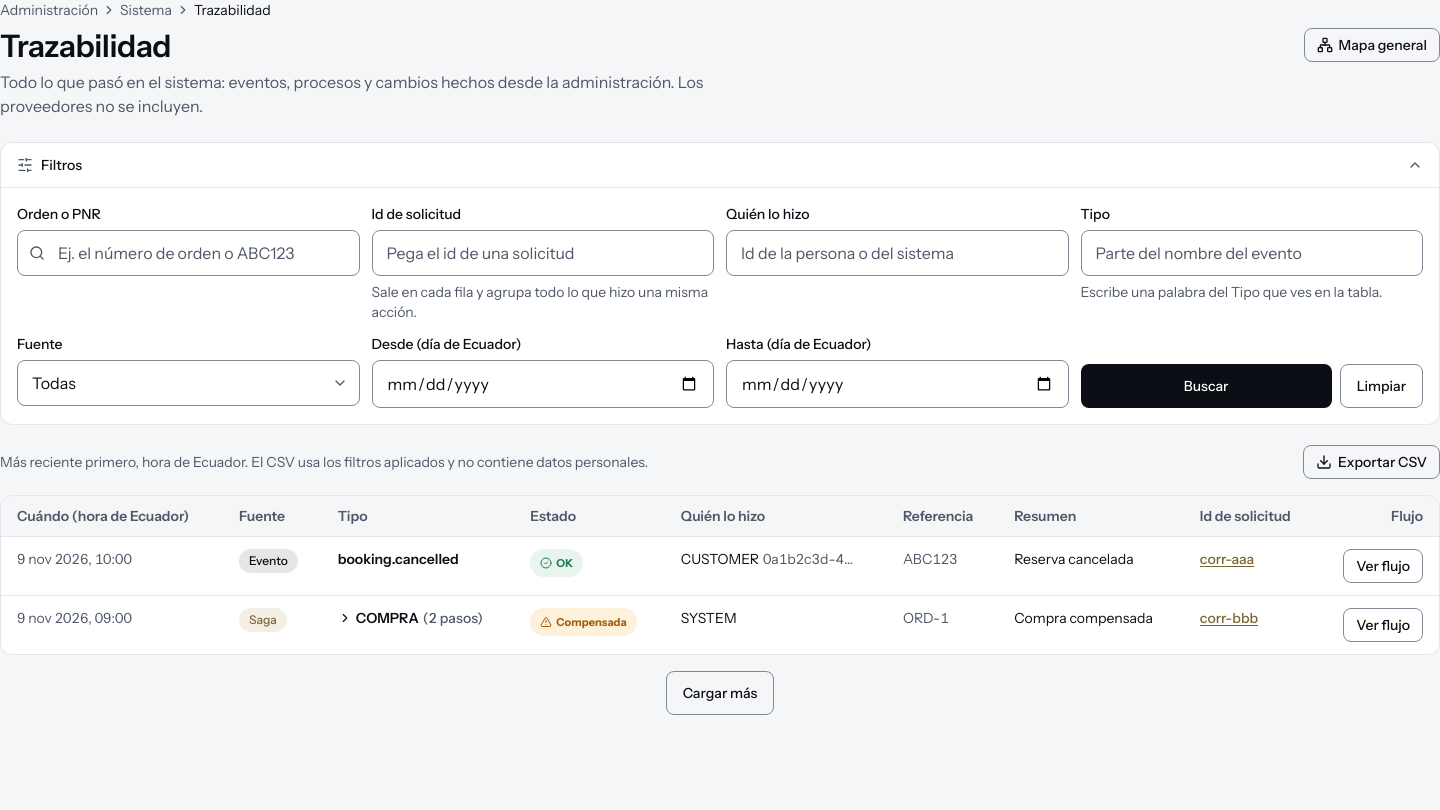
Test case: AdminAuditPage (trazabilidad) › warns when the flow was cut at 500 steps
Click the button "Ver flujo" in the row of "9 nov 2026, 10:00". click: (1383,566)
box: [1343,549,1423,583]
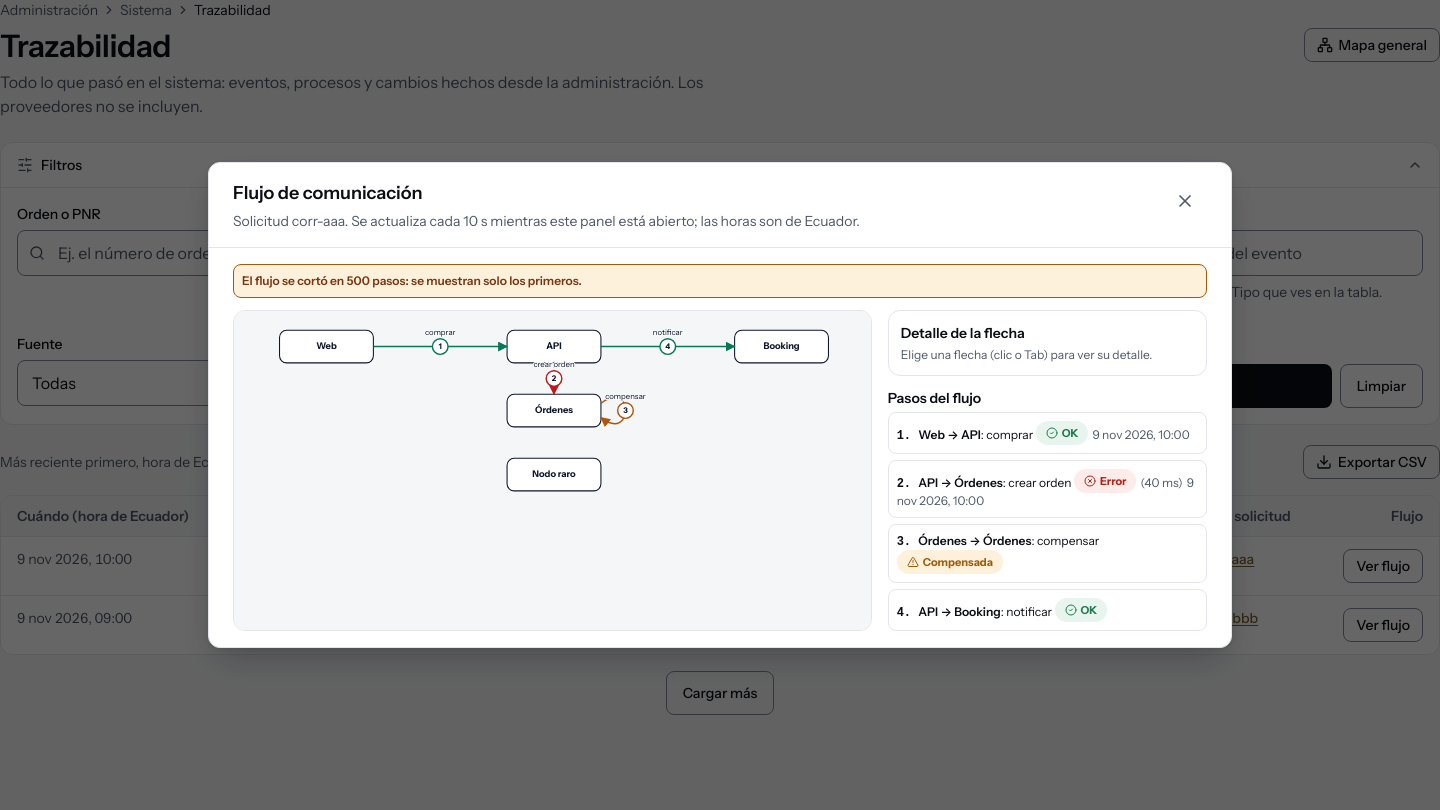
expect the text "500 pasos" is shown: met, box [242,273,582,288]
